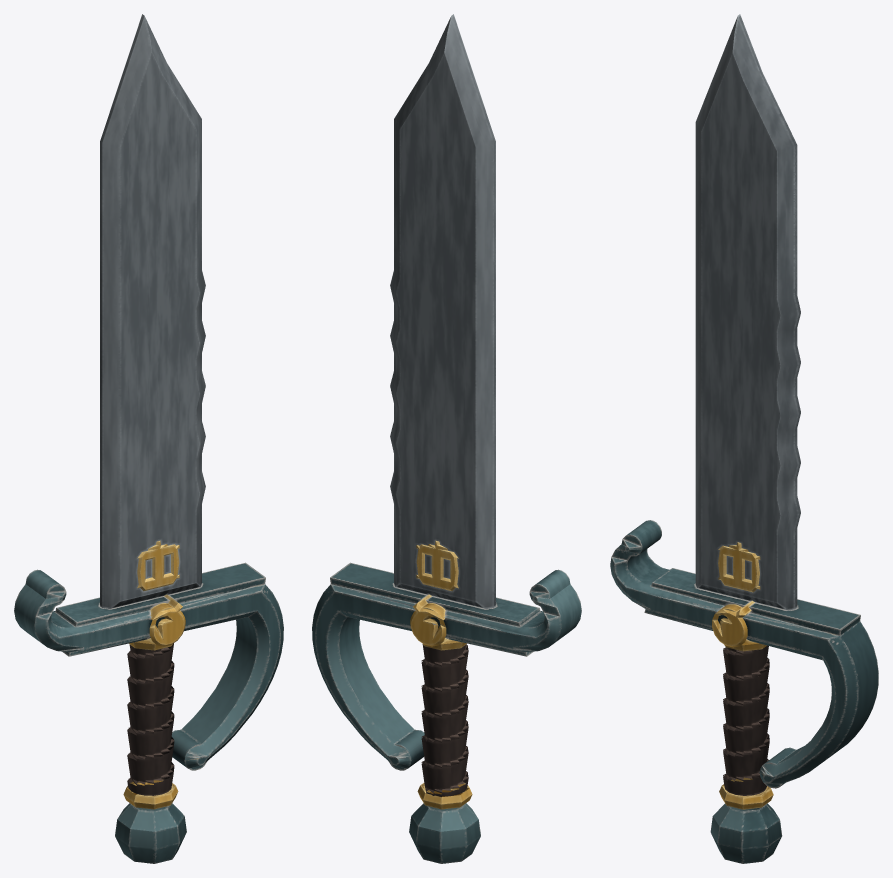
Rendered from Cutpurse Cutlass.fbx.
3 views of the same model, side by side, from view 1: azimuth 30°, elevation 25°; view 2: azimuth 150°, elevation 25°; view 3: azimuth 330°, elevation 25° (orthographic).
Parts seen in each view (by area): view 1: Cutpurse Cutlass_Body; view 2: Cutpurse Cutlass_Body; view 3: Cutpurse Cutlass_Body.
Part boxes in pixels (x1,y1,x2,y2): Cutpurse Cutlass_Body: (14,14,283,863); Cutpurse Cutlass_Body: (312,14,581,863); Cutpurse Cutlass_Body: (610,14,878,863).
Size of the model in its own units: 1.27 by 4.12 by 0.32.
